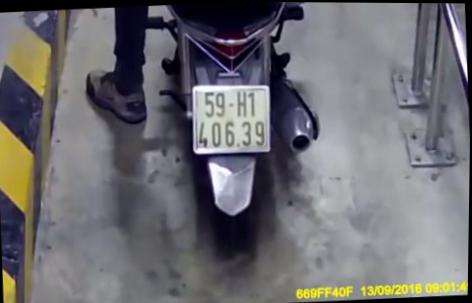LP: (188, 79, 276, 159)
